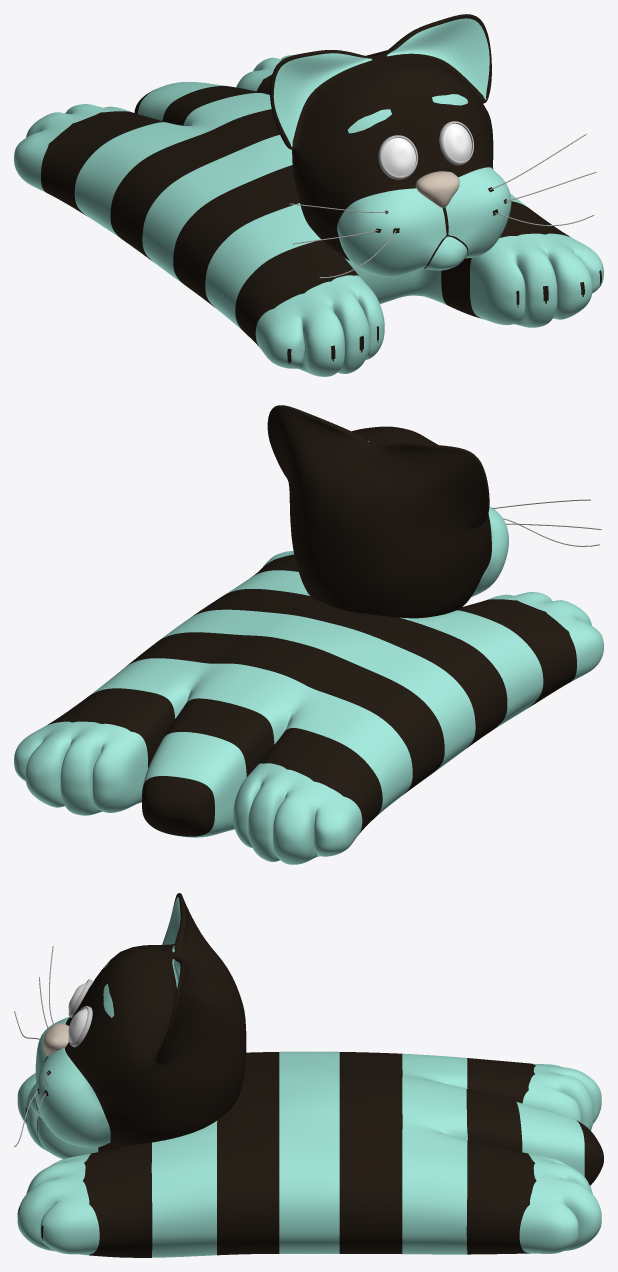
File: Cat.FBX
3 renders of one model, top to bottom at view 1: azimuth 30°, elevation 25°; view 2: azimuth 150°, elevation 25°; view 3: azimuth 270°, elevation 25°, orthographic. The views are drawn at different scales.
Visible parts, largest first — view 1: Box007, Object002, Sphere006, Object006, Object007; view 2: Box007, Object002; view 3: Box007, Object002, Sphere006.
Boxes of the visible parts, <box> form: Box007: <box>14,55,603,376</box>; Object002: <box>270,14,511,276</box>; Sphere006: <box>415,171,459,207</box>; Object006: <box>382,137,415,175</box>; Object007: <box>443,123,471,161</box>; Box007: <box>14,551,603,864</box>; Object002: <box>267,405,508,618</box>; Box007: <box>17,1051,603,1257</box>; Object002: <box>30,893,246,1147</box>; Sphere006: <box>43,1023,69,1056</box>.
Bounding box in the file's own units: 28.78 × 23.55 × 45.38.
